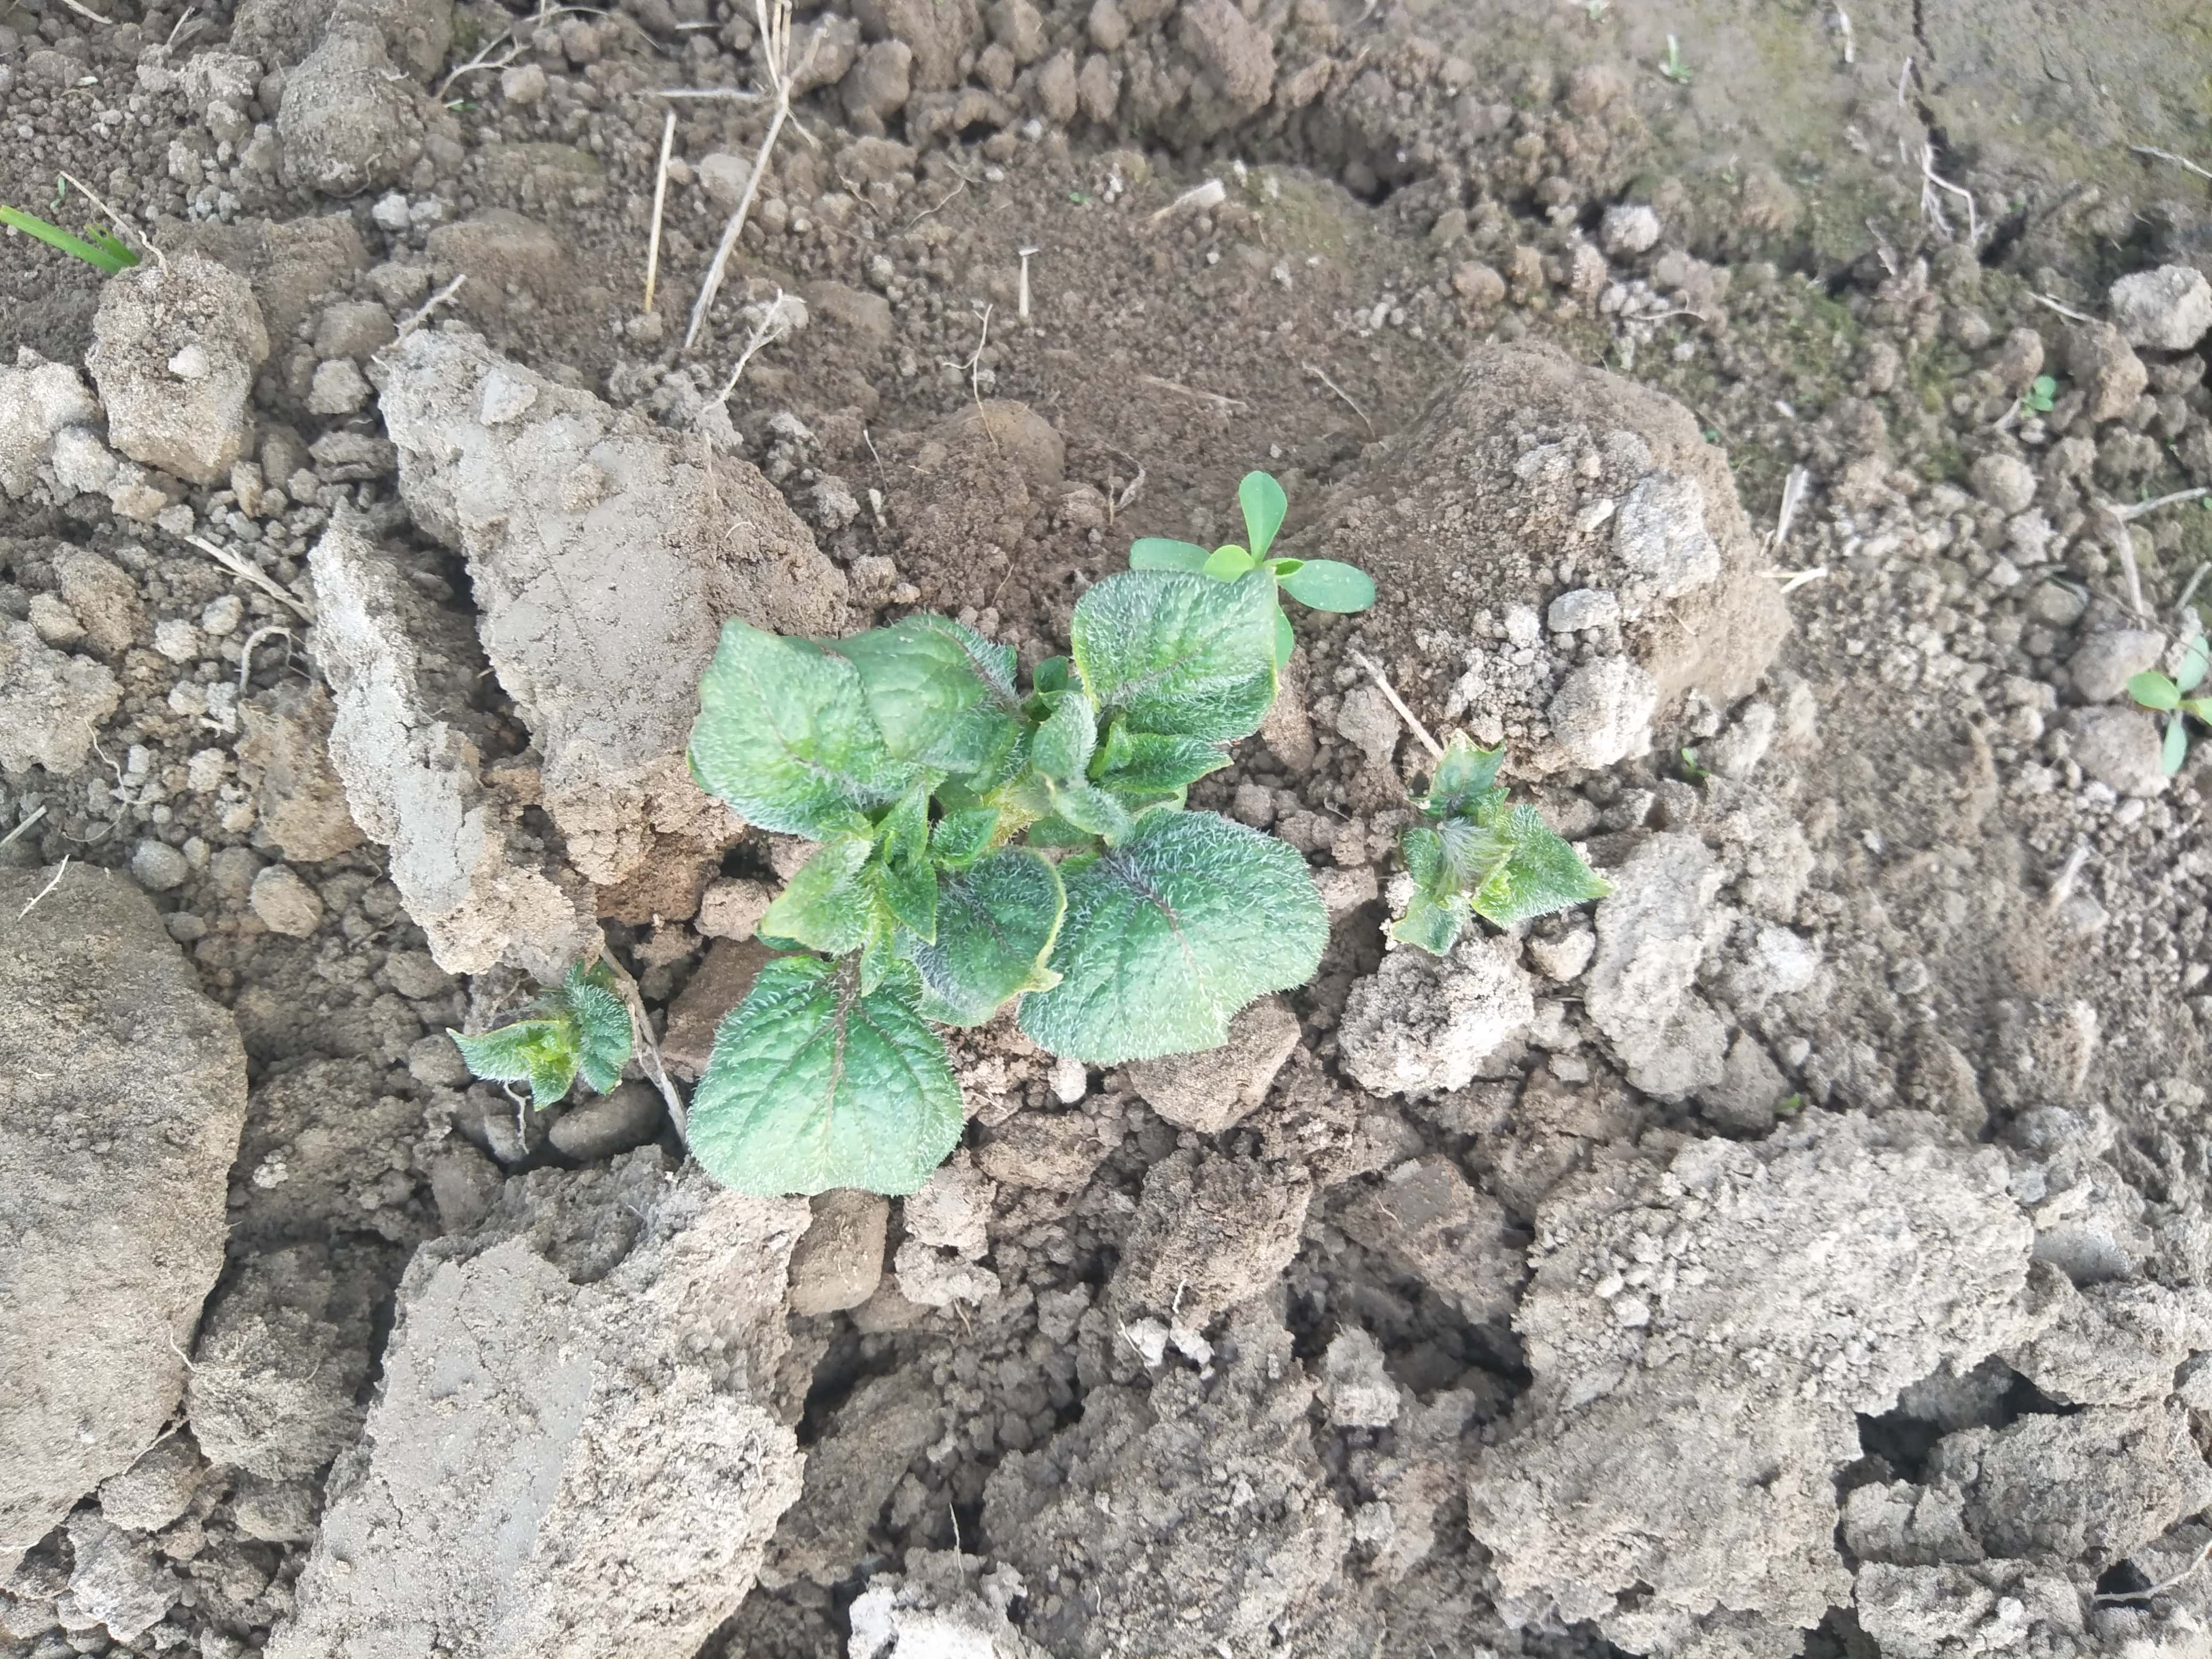daun: (1003, 819, 1312, 1051), (712, 969, 954, 1190), (676, 620, 888, 829), (1069, 556, 1268, 741), (918, 863, 1066, 1002), (869, 626, 1007, 767), (763, 829, 885, 955), (1106, 704, 1235, 800), (927, 782, 1014, 870)
